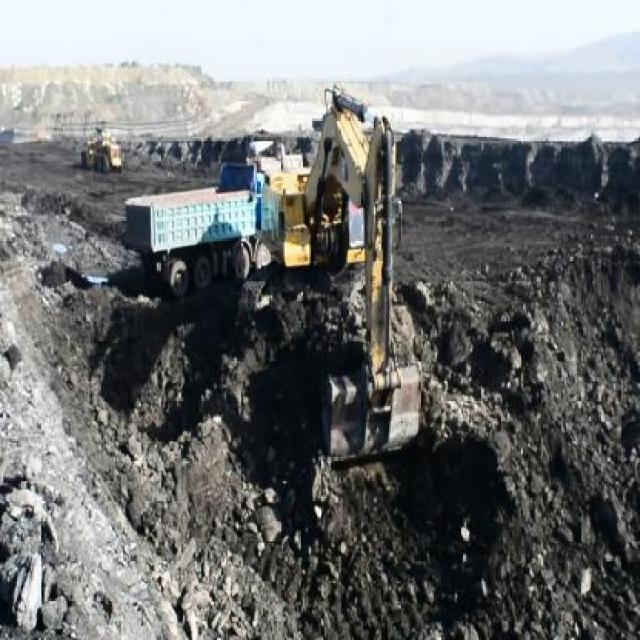dump_truck: (126, 165, 272, 289)
excavator: (259, 98, 423, 456)
